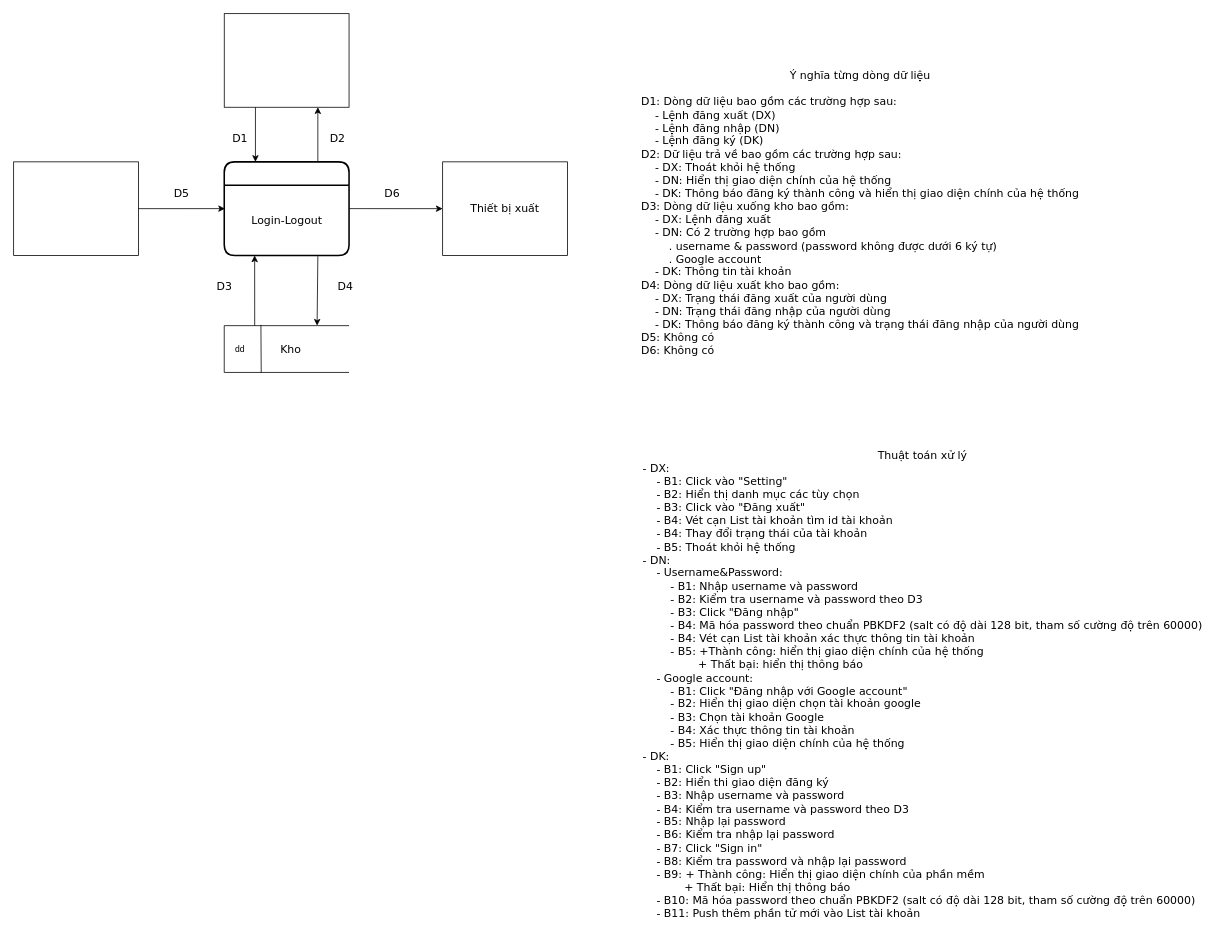
This 1229x948 diagram has some shape labels left out. Here are the shapes that lost their labels. From the top down, the centre of each, then its label:
At pixel 286 60: "User".
At pixel 75 208: "Thiết bị nhập".
